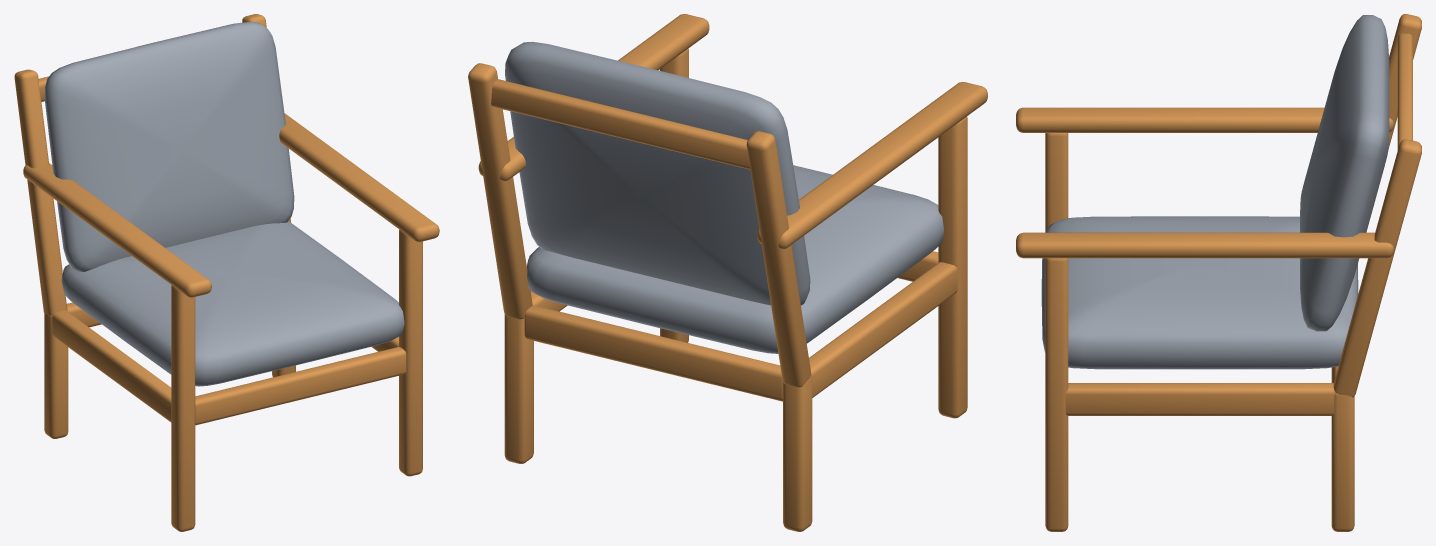
The model's file is poltrona_palito_madeira_cinza.glb.
The picture shows the model from 3 angles, left to right: view 1: azimuth 30°, elevation 25°; view 2: azimuth 150°, elevation 25°; view 3: azimuth 270°, elevation 25°; orthographic projection. The views are drawn at different scales.
Visible parts, largest first — view 1: poltrona_palito_madeira_cinza; view 2: poltrona_palito_madeira_cinza; view 3: poltrona_palito_madeira_cinza.
Boxes of the visible parts, x1=… form: poltrona_palito_madeira_cinza: x1=14, y1=14, x2=439, y2=531; poltrona_palito_madeira_cinza: x1=468, y1=14, x2=987, y2=531; poltrona_palito_madeira_cinza: x1=1016, y1=14, x2=1421, y2=531.
Bounding box in the file's own units: 0.645 × 0.8667 × 0.7944.
1 material, 1 textured.
